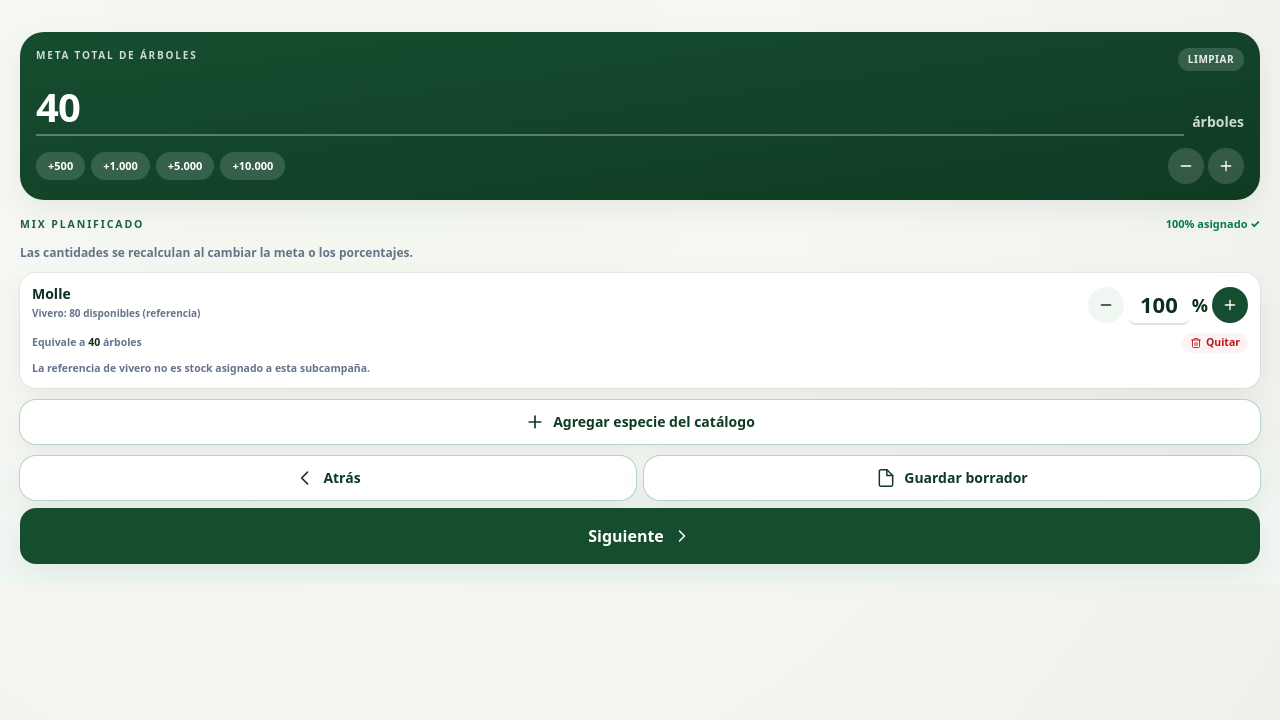
Plan coherente del asistente de subcampaña › no actualiza metadatos ni equipo cuando deja de recibirse la versión al guardar
Replace the text in the field labelled "Meta total de árboles" with "60" at (610, 108), box [36, 79, 1184, 136]
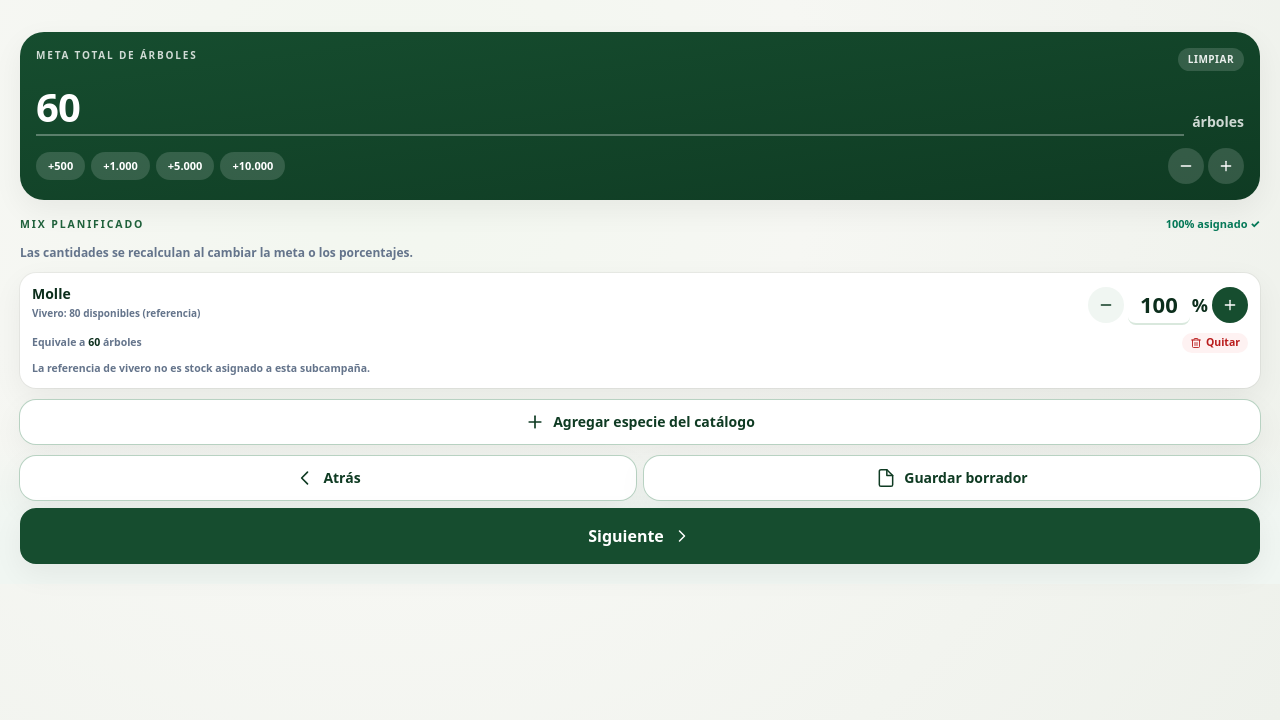
Click the button "Siguiente" at (640, 536), box [20, 508, 1260, 564]
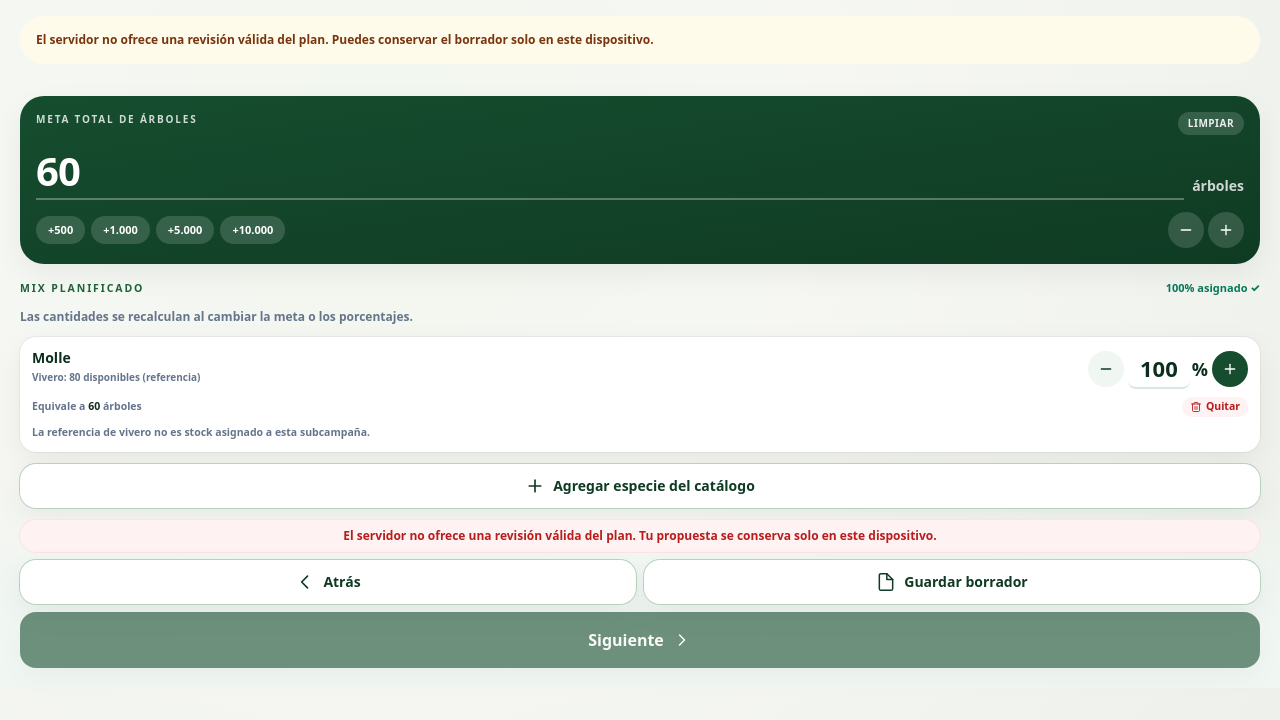
Check: the text "El servidor no ofrece una revisión válida del plan. Tu propuesta se conserva solo en este dispositivo." is shown, box [343, 527, 937, 544]
